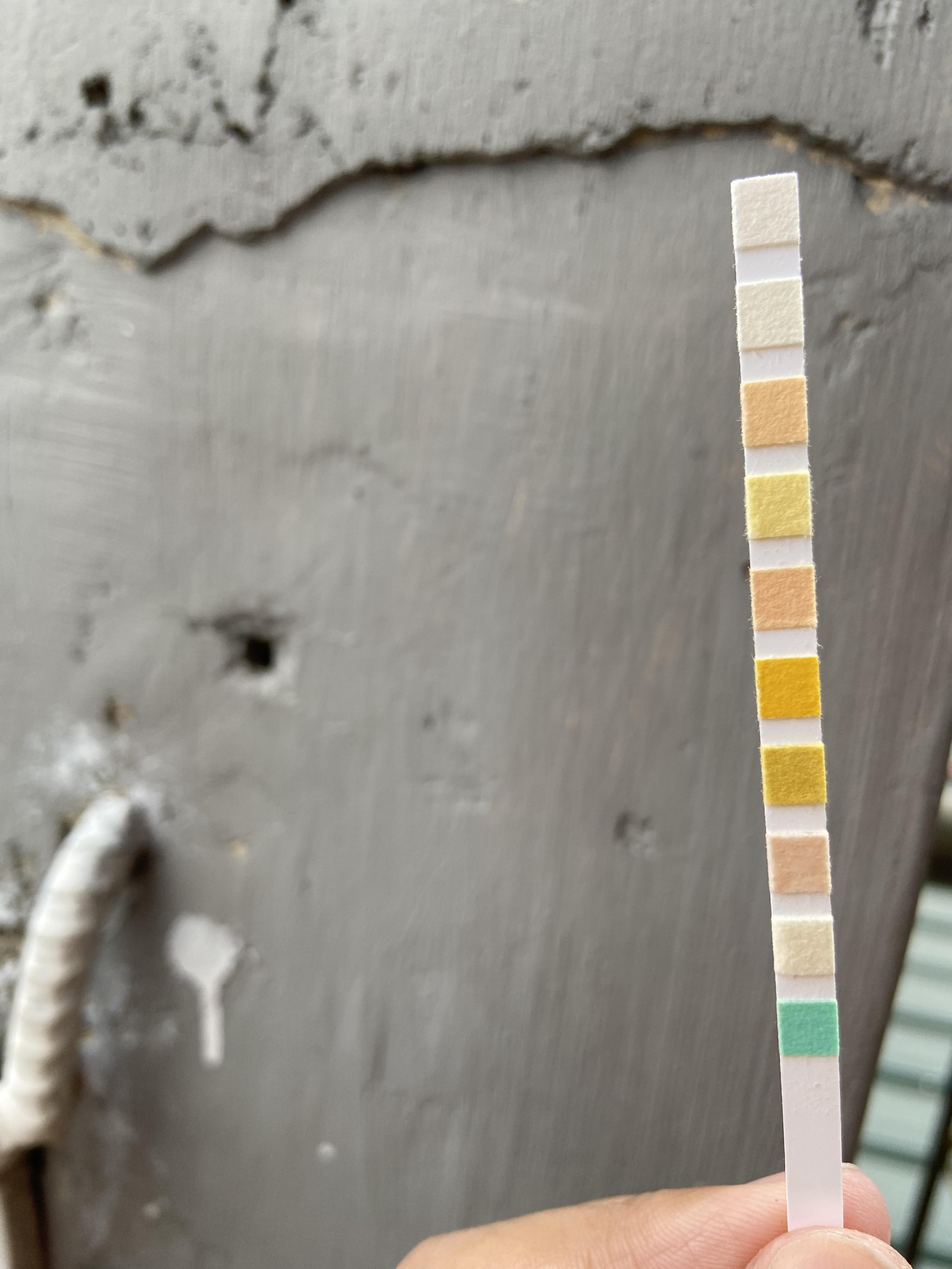Bilirubin: (781, 921, 832, 973)
Blood: (759, 660, 821, 717)
Glucose: (783, 1004, 837, 1053)
Ketone: (775, 837, 828, 890)
Leukocytes: (734, 181, 799, 241)
Nitrite: (738, 287, 802, 340)
Protein: (748, 476, 808, 532)
SpGravity: (766, 749, 824, 801)
Urobilinogen: (744, 385, 805, 440)
pH: (752, 571, 813, 625)
strip: (730, 171, 843, 1226)
